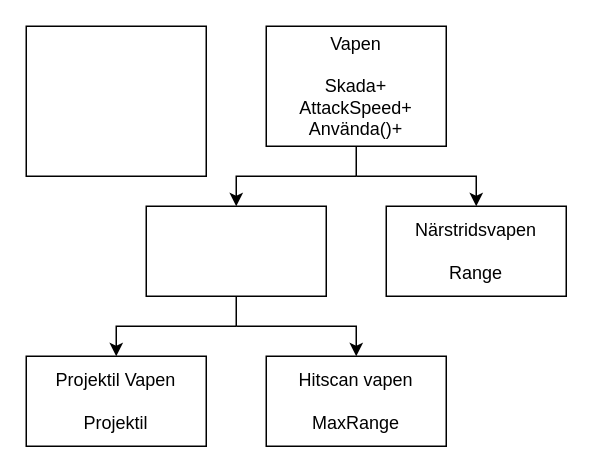
This 593x473 diagram has some shape labels left out. The shapes that lost their labels are listed below. From the top down, each one's box as (x1, y1, x2, y2) in pixels, then its label:
(25, 25, 206, 176): Player Lista av vapen+ Byta vapen+ Använda vapen+
(145, 205, 326, 296): Skjutvapen Ammo
